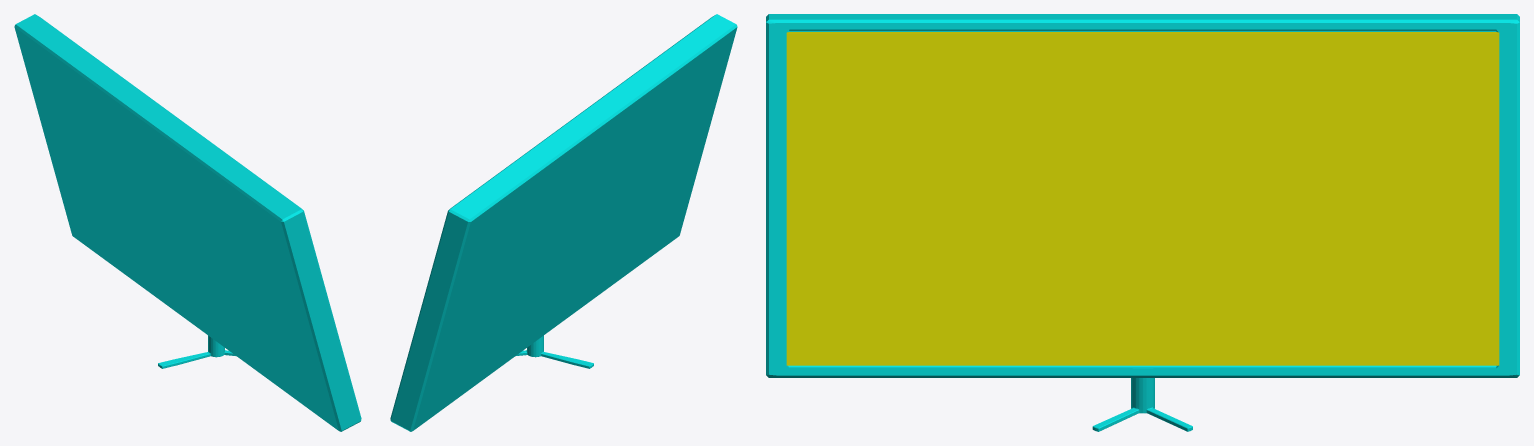
The model's file is Monitor.fbx.
3 renders of one model, left to right at view 1: azimuth 30°, elevation 25°; view 2: azimuth 150°, elevation 25°; view 3: azimuth 270°, elevation 25°, orthographic. The views are drawn at different scales.
Visible parts, largest first — view 1: pCube1, pCylinder1; view 2: pCube1, pCylinder1; view 3: pCube2, pCube1, pCylinder1.
Boxes of the visible parts, x1,y1,x2,y2 form: pCube1: (14, 14, 361, 431); pCylinder1: (158, 335, 236, 368); pCube1: (390, 14, 737, 431); pCylinder1: (515, 335, 593, 368); pCube2: (786, 32, 1499, 365); pCube1: (766, 14, 1519, 377); pCylinder1: (1092, 368, 1192, 431).
Size of the model in its own units: 0.497 by 1.17 by 2.24.
